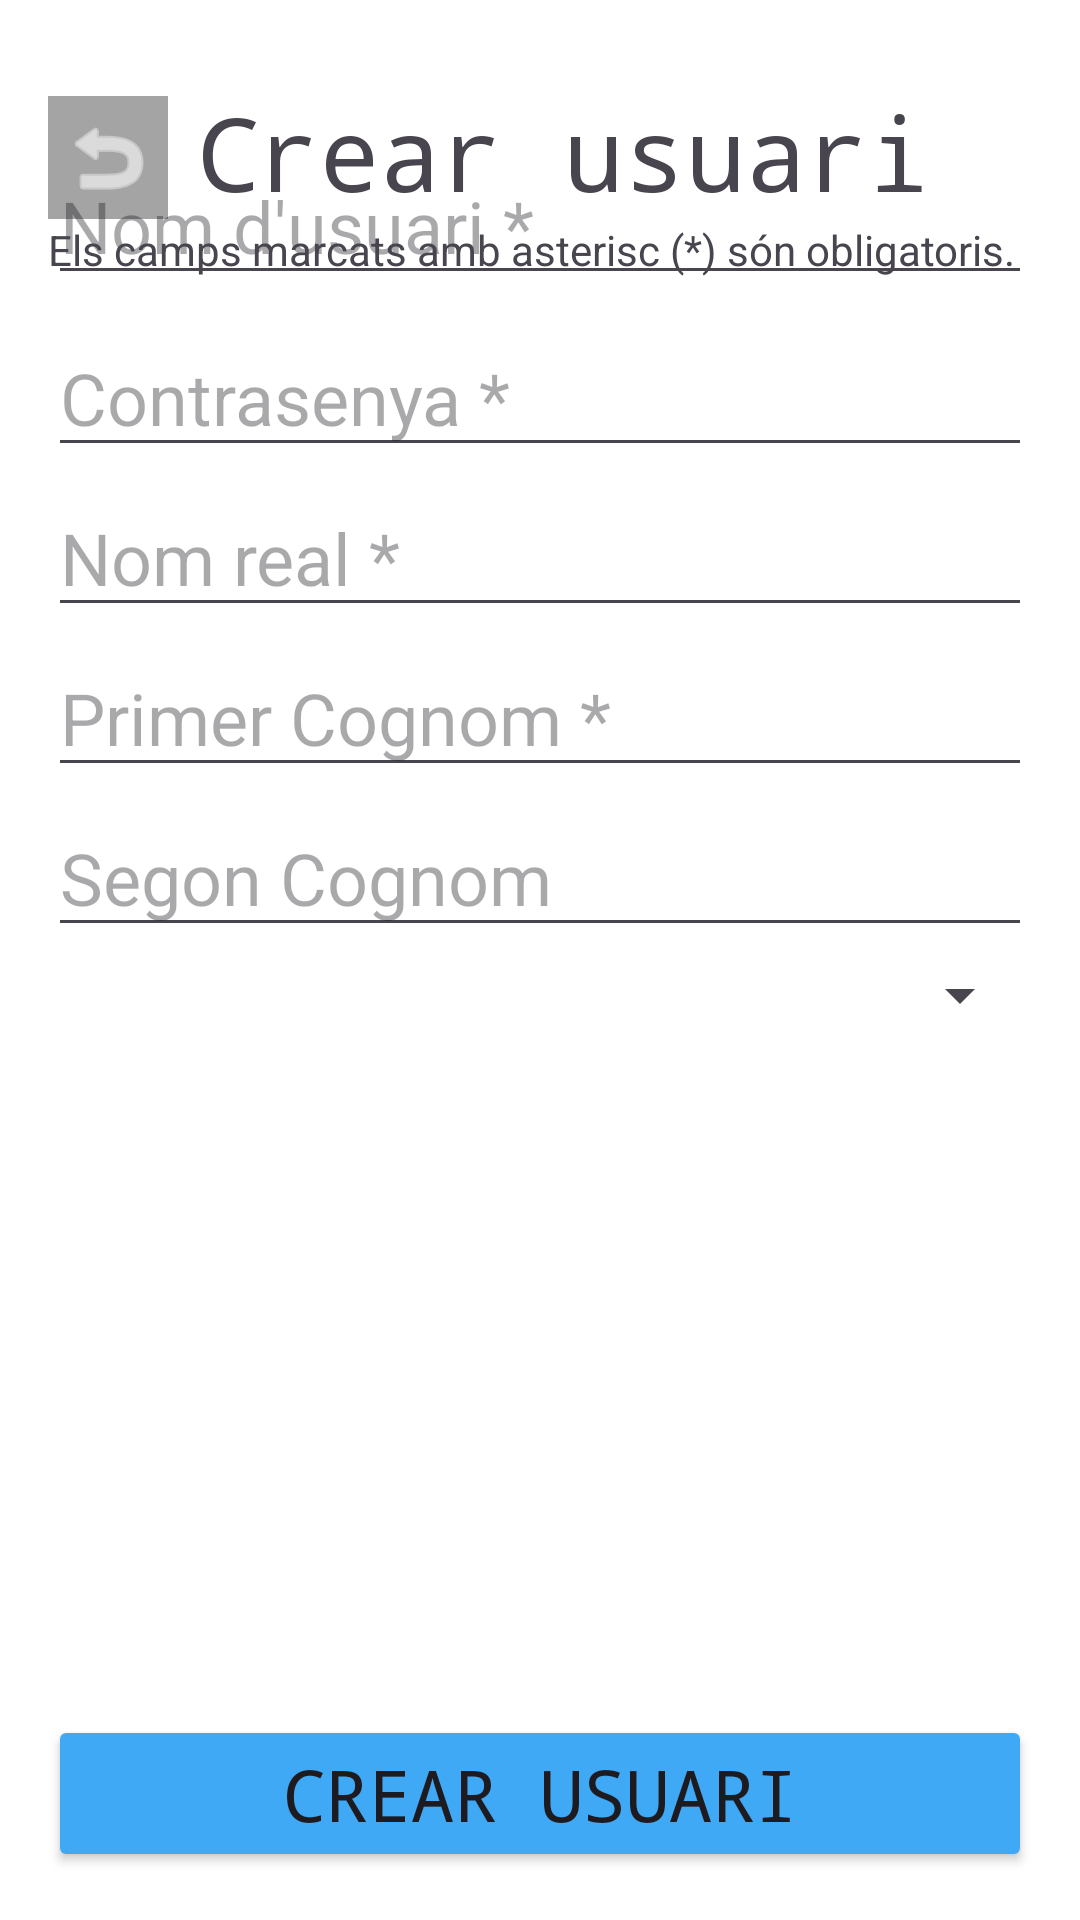

Where icons sit on this 1080px×1920px app screen, as bbox(x1, y1, x2, y2):
revert: bbox(48, 96, 168, 219)
